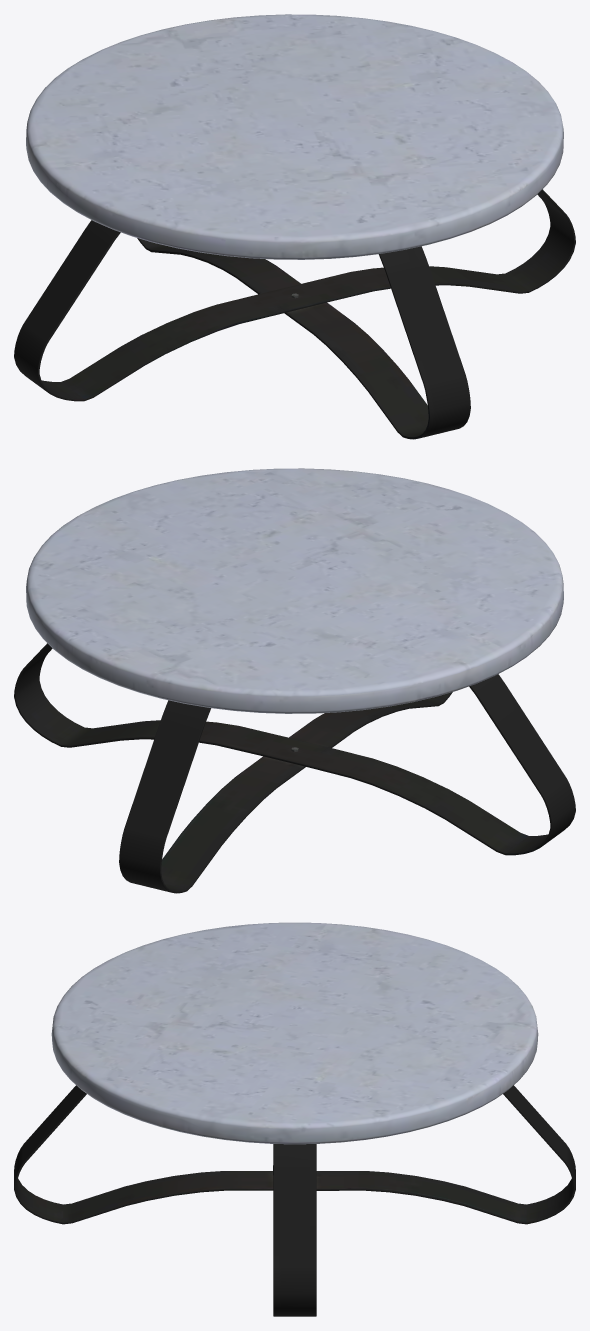
The model's file is coffee_table_round_01.glb.
3 views of the same model, one above another, from view 1: azimuth 30°, elevation 25°; view 2: azimuth 150°, elevation 25°; view 3: azimuth 270°, elevation 25° (orthographic). The views are drawn at different scales.
Parts seen in each view (by area): view 1: coffee_table_round_01; view 2: coffee_table_round_01; view 3: coffee_table_round_01.
Part boxes in pixels (bbox=[...]): coffee_table_round_01: bbox=[14, 14, 575, 439]; coffee_table_round_01: bbox=[14, 468, 575, 893]; coffee_table_round_01: bbox=[14, 922, 575, 1316].
Size of the model in its own units: 1.3 by 0.4911 by 1.3.
1 material, 1 textured.
